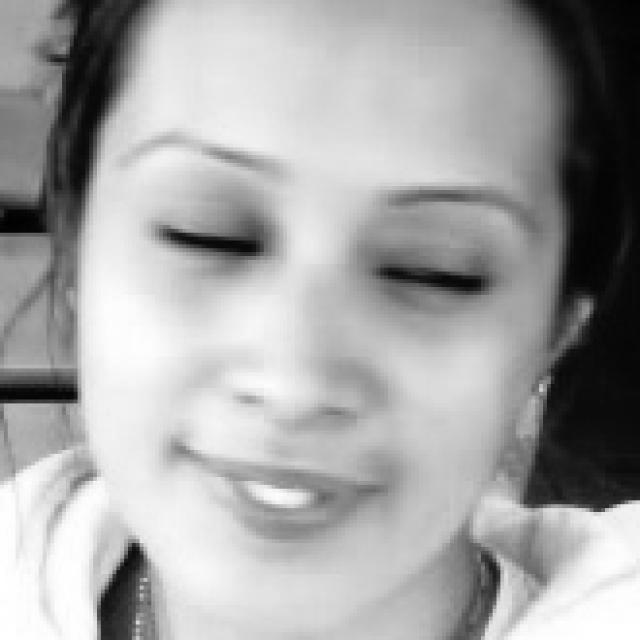real: (74, 0, 566, 632), (139, 192, 506, 324)
